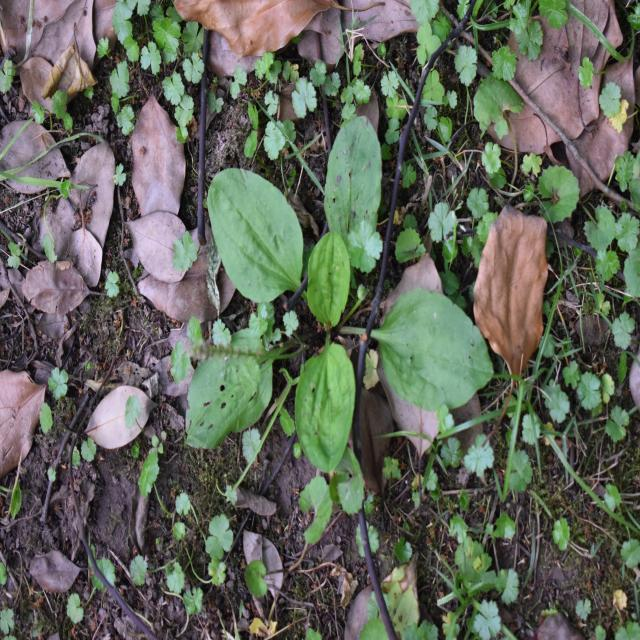plantain: (207, 154, 486, 486)
